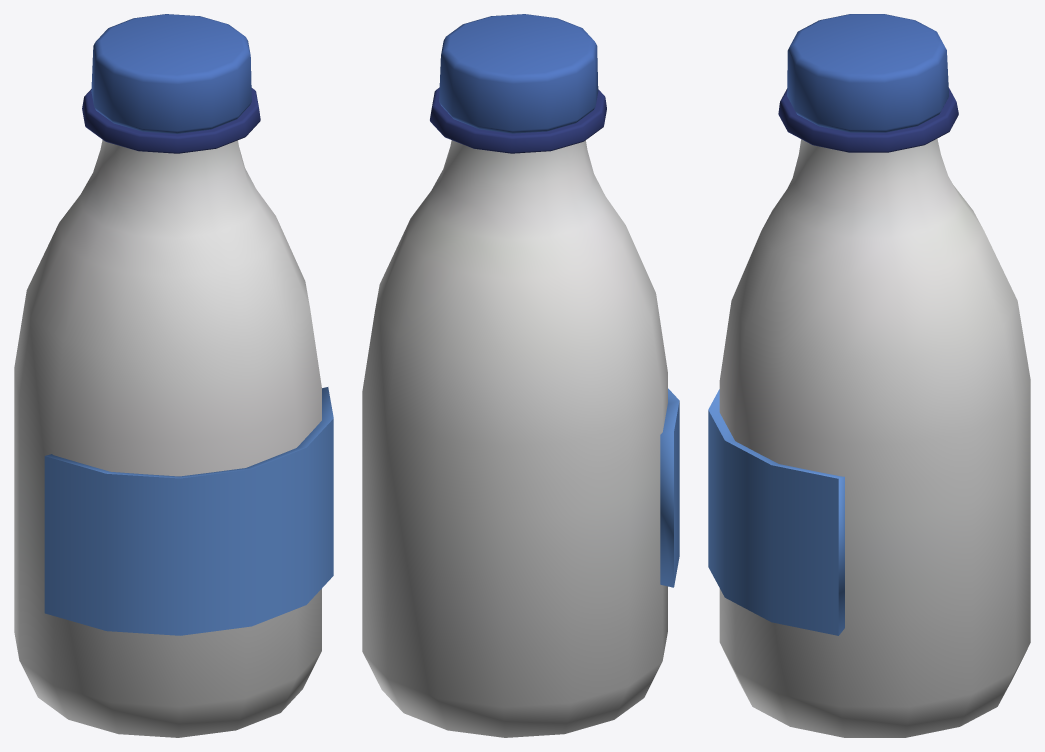
Rendered from Milk.fbx.
3 views of the same model, side by side, from view 1: azimuth 30°, elevation 25°; view 2: azimuth 150°, elevation 25°; view 3: azimuth 270°, elevation 25° (orthographic).
Visible parts, largest first — view 1: Milk; view 2: Milk; view 3: Milk.
Boxes of the visible parts, box(x1,y1,x2,y2) form: Milk: box(14, 14, 333, 737); Milk: box(362, 14, 679, 737); Milk: box(708, 14, 1030, 737).
Size of the model in its own units: 0.1418 by 0.3121 by 0.1398.
